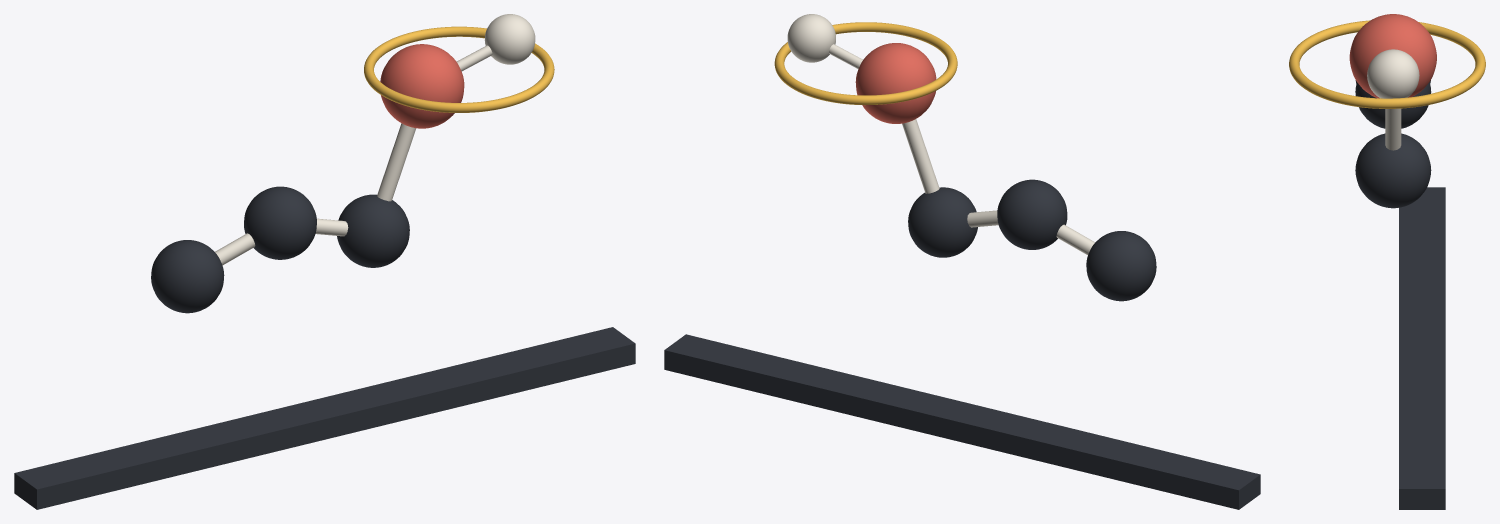
Rendered from chem-p1-functional-group.glb.
3 renders of one model, left to right at view 1: azimuth 30°, elevation 25°; view 2: azimuth 150°, elevation 25°; view 3: azimuth 270°, elevation 25°, orthographic. The views are drawn at different scales.
Parts seen in each view (by area): view 1: organic-chemistry-bench-reference-base, highlighted-oxygen-functional-group, backbone-carbon-0, backbone-carbon-1, backbone-carbon-2, functional-group-reactive-site-ring, reactive-hydrogen-on-functional-group, functional-group-attachment-bond; view 2: organic-chemistry-bench-reference-base, highlighted-oxygen-functional-group, backbone-carbon-0, backbone-carbon-1, backbone-carbon-2, functional-group-reactive-site-ring, reactive-hydrogen-on-functional-group, functional-group-attachment-bond; view 3: organic-chemistry-bench-reference-base, backbone-carbon-2, functional-group-reactive-site-ring, highlighted-oxygen-functional-group, reactive-hydrogen-on-functional-group, backbone-carbon-1, functional-group-attachment-bond.
Boxes of the visible parts, x1=… form: organic-chemistry-bench-reference-base: x1=14, y1=327, x2=635, y2=509; highlighted-oxygen-functional-group: x1=380, y1=44, x2=464, y2=128; backbone-carbon-0: x1=151, y1=240, x2=224, y2=313; backbone-carbon-1: x1=244, y1=186, x2=316, y2=259; backbone-carbon-2: x1=337, y1=194, x2=409, y2=267; functional-group-reactive-site-ring: x1=364, y1=26, x2=554, y2=112; reactive-hydrogen-on-functional-group: x1=484, y1=14, x2=535, y2=64; functional-group-attachment-bond: x1=377, y1=123, x2=415, y2=201; organic-chemistry-bench-reference-base: x1=664, y1=334, x2=1260, y2=509; highlighted-oxygen-functional-group: x1=855, y1=43, x2=936, y2=123; backbone-carbon-0: x1=1086, y1=231, x2=1156, y2=301; backbone-carbon-1: x1=997, y1=179, x2=1067, y2=249; backbone-carbon-2: x1=908, y1=187, x2=977, y2=257; functional-group-reactive-site-ring: x1=774, y1=22, x2=957, y2=105; reactive-hydrogen-on-functional-group: x1=787, y1=14, x2=835, y2=62; functional-group-attachment-bond: x1=902, y1=119, x2=939, y2=193; organic-chemistry-bench-reference-base: x1=1399, y1=187, x2=1445, y2=509; backbone-carbon-2: x1=1355, y1=133, x2=1431, y2=208; functional-group-reactive-site-ring: x1=1289, y1=20, x2=1485, y2=108; highlighted-oxygen-functional-group: x1=1349, y1=14, x2=1436, y2=98; reactive-hydrogen-on-functional-group: x1=1367, y1=49, x2=1419, y2=98; backbone-carbon-1: x1=1355, y1=82, x2=1431, y2=128; functional-group-attachment-bond: x1=1385, y1=108, x2=1401, y2=150.
Size of what is drawn, in the model's own units: 2.45 by 1.49 by 0.676.
